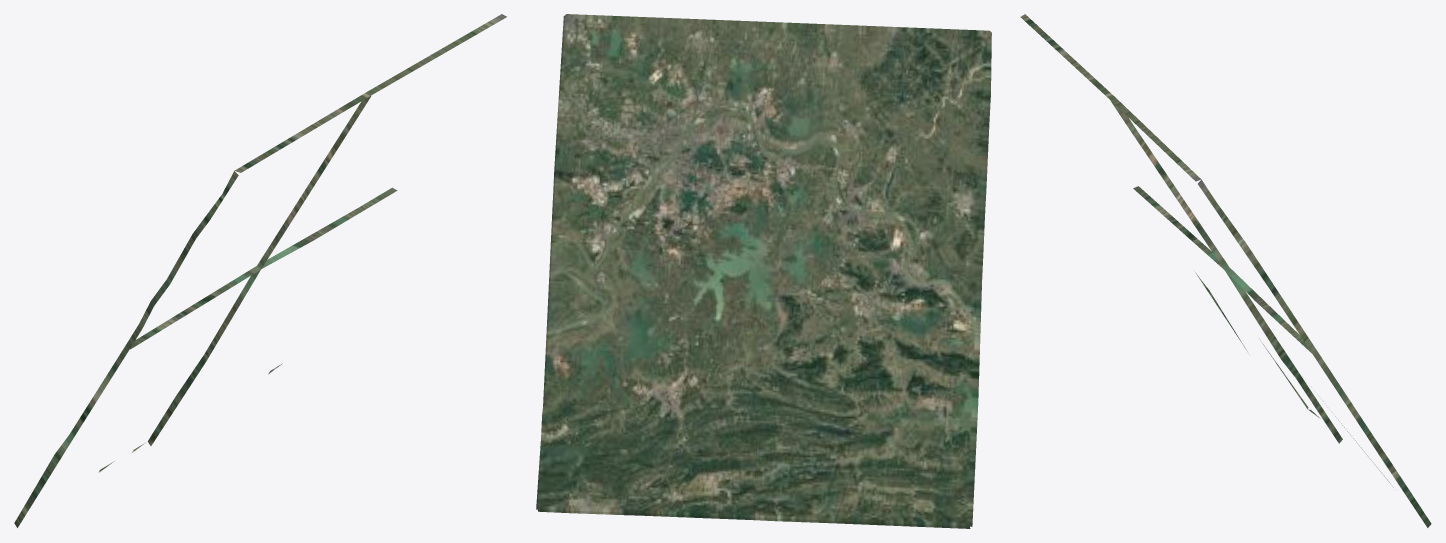
3 renders of one model, left to right at view 1: azimuth 30°, elevation 25°; view 2: azimuth 150°, elevation 25°; view 3: azimuth 270°, elevation 25°, orthographic. The views are drawn at different scales.
Size of the model in its own units: 157730 by 137201 by 130029.
1 material, 1 textured.
